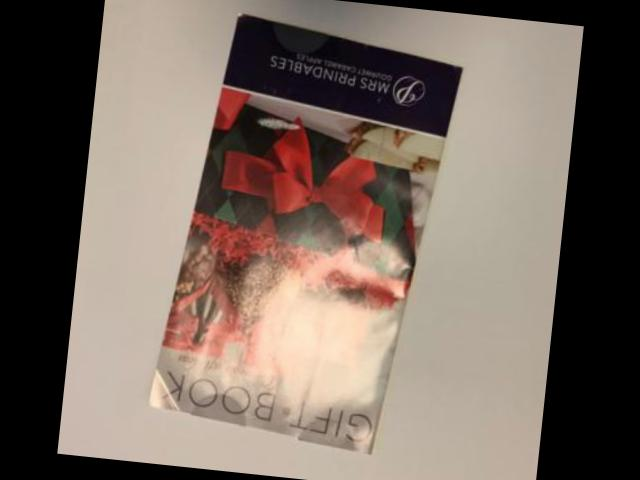cardboard paper: (149, 18, 458, 453)
